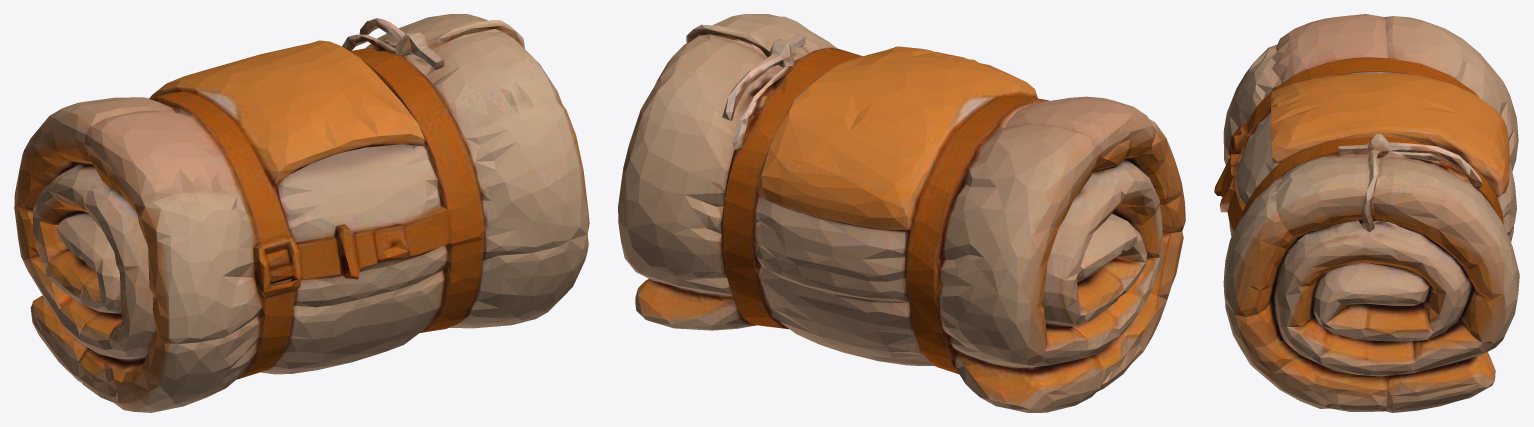
Rendered from bedroll.glb.
3 renders of one model, left to right at view 1: azimuth 30°, elevation 25°; view 2: azimuth 150°, elevation 25°; view 3: azimuth 270°, elevation 25°, orthographic. The views are drawn at different scales.
Visible parts, largest first — view 1: tmpzvlo4yrh.ply; view 2: tmpzvlo4yrh.ply; view 3: tmpzvlo4yrh.ply.
Part boxes in pixels (box(x1,y1,x2,y2)): tmpzvlo4yrh.ply: box(14, 14, 589, 412); tmpzvlo4yrh.ply: box(618, 14, 1185, 412); tmpzvlo4yrh.ply: box(1214, 14, 1519, 412).
Bounding box in the file's own units: 2 × 1.2 × 1.35.
Materials: 1 (1 with a texture image).
